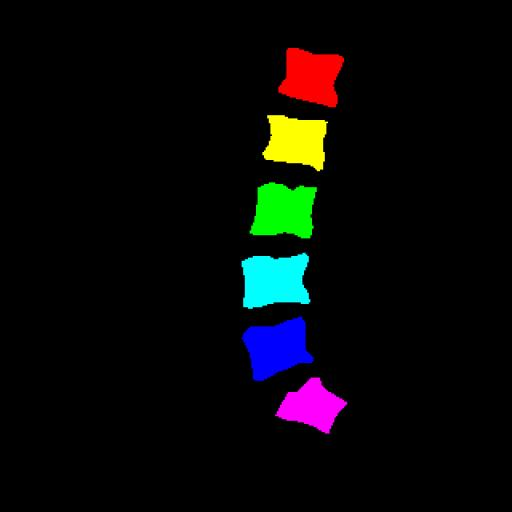L1: (279, 48, 344, 106)
L2: (263, 115, 327, 171)
L3: (250, 183, 317, 238)
L4: (242, 253, 310, 308)
L5: (243, 317, 313, 381)
S1: (276, 378, 347, 434)
